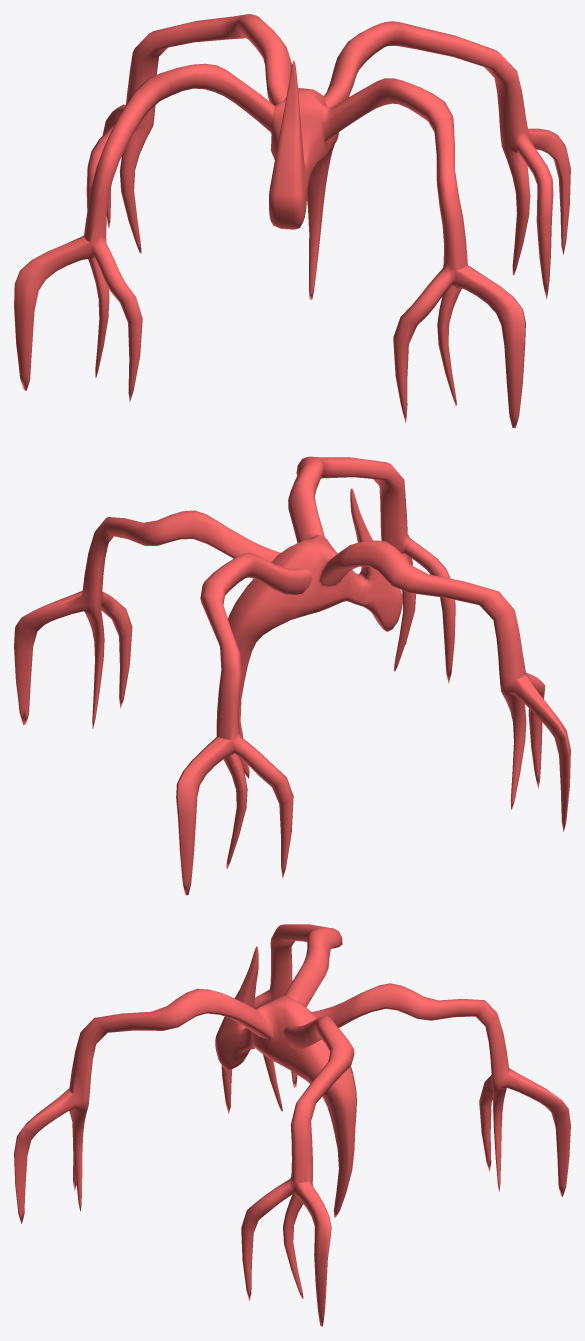
File: mind-f-compressed-v2.glb
3 renders of one model, top to bottom at view 1: azimuth 30°, elevation 25°; view 2: azimuth 150°, elevation 25°; view 3: azimuth 270°, elevation 25°, orthographic. The views are drawn at different scales.
Parts seen in each view (by area): view 1: Object_2; view 2: Object_2; view 3: Object_2.
Part boxes in pixels (x1,y1,x2,y2): Object_2: (14,14,570,427); Object_2: (14,456,570,895); Object_2: (14,924,570,1326).
Bounding box in the file's own units: 82.06 × 40.77 × 81.57.
